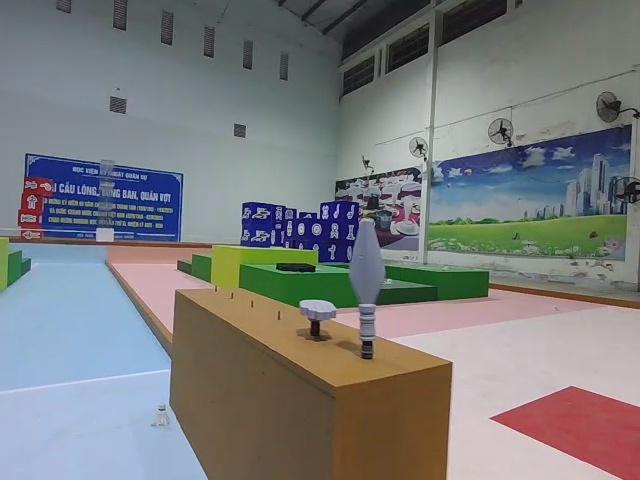Hand: (299, 297, 335, 335)
Sph: (347, 217, 386, 362)
